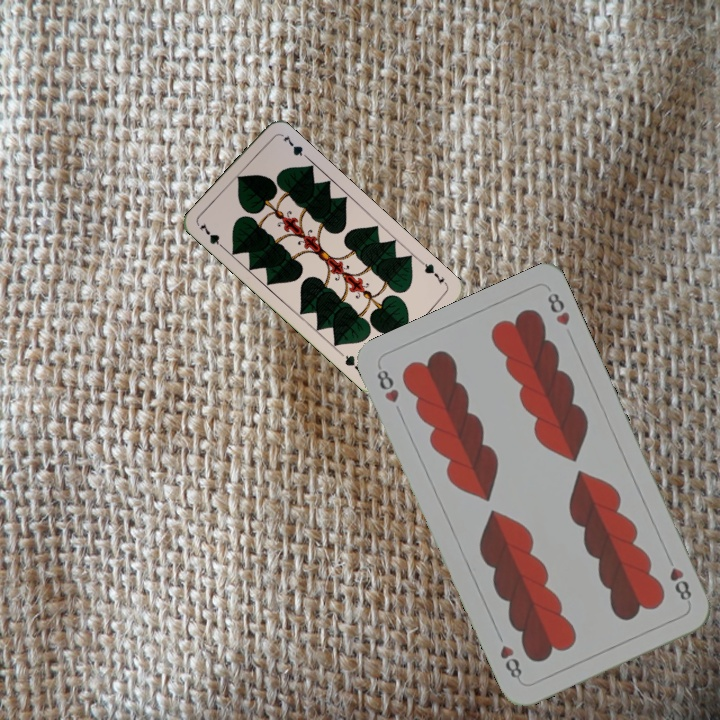G7: (195, 219, 229, 253), (417, 258, 450, 289)
H8: (372, 363, 402, 406), (665, 563, 695, 603)
